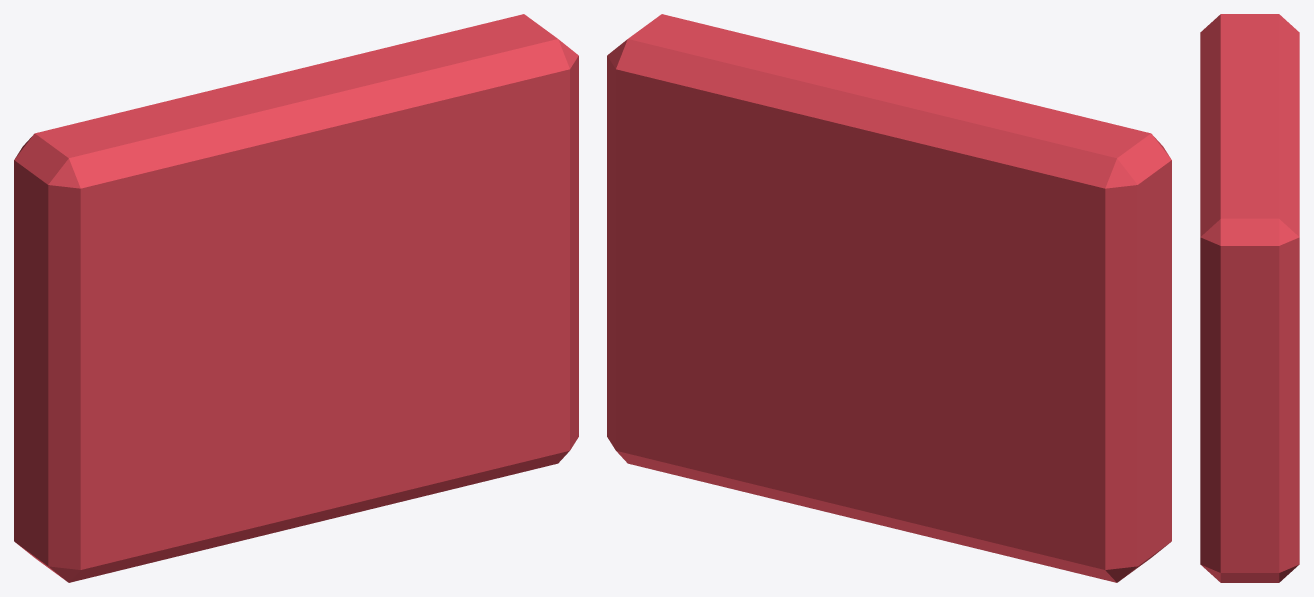
The picture shows the model from 3 angles, left to right: view 1: azimuth 30°, elevation 25°; view 2: azimuth 150°, elevation 25°; view 3: azimuth 270°, elevation 25°; orthographic projection. The views are drawn at different scales.
Parts seen in each view (by area): view 1: Cube.003; view 2: Cube.003; view 3: Cube.003.
Boxes of the visible parts, left/top/right/bottom form: Cube.003: left=14, top=14, right=578, bottom=582; Cube.003: left=607, top=14, right=1171, bottom=582; Cube.003: left=1200, top=14, right=1299, bottom=582.
Bounding box in the file's own units: 128 × 98.17 × 24.26.
